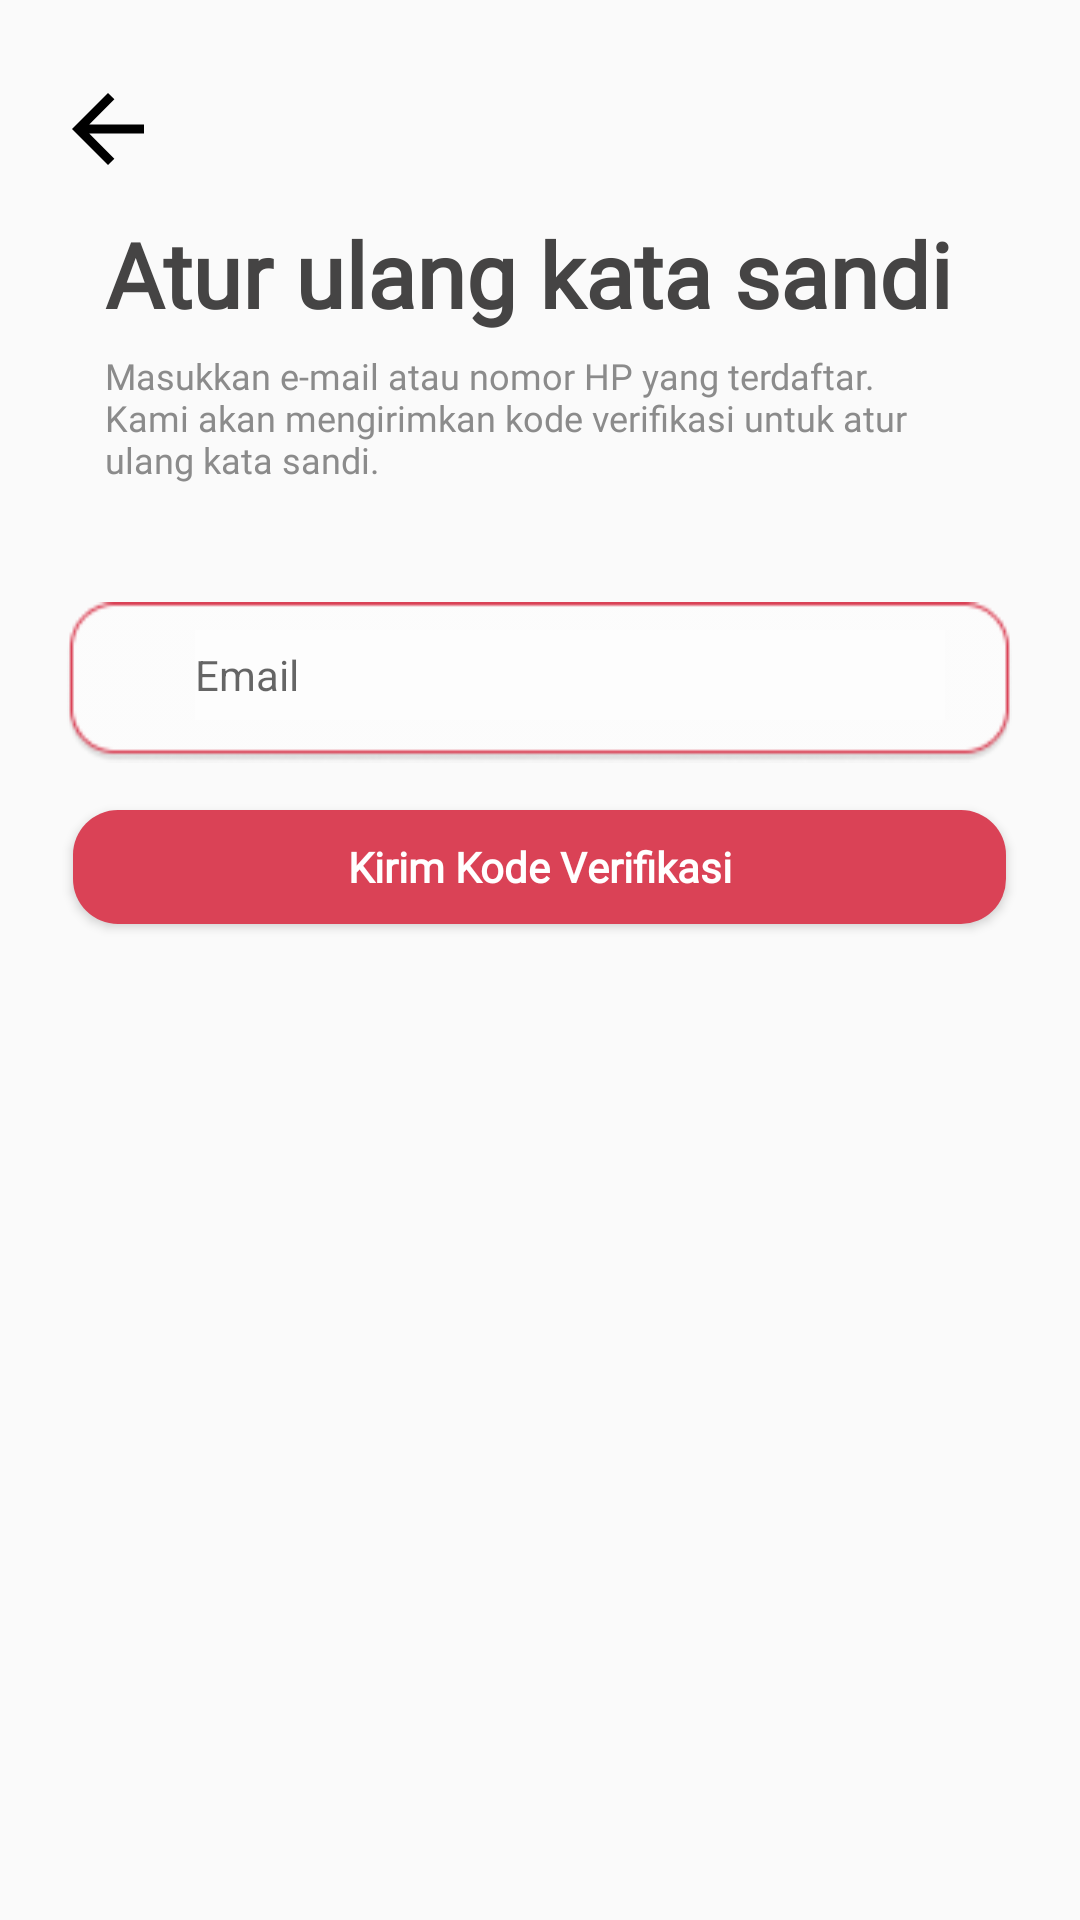

Locate icon controls on the screen. Image size 1080×1920, boxes as (x1, y1, x2, y2).
back: (72, 93, 144, 165)
